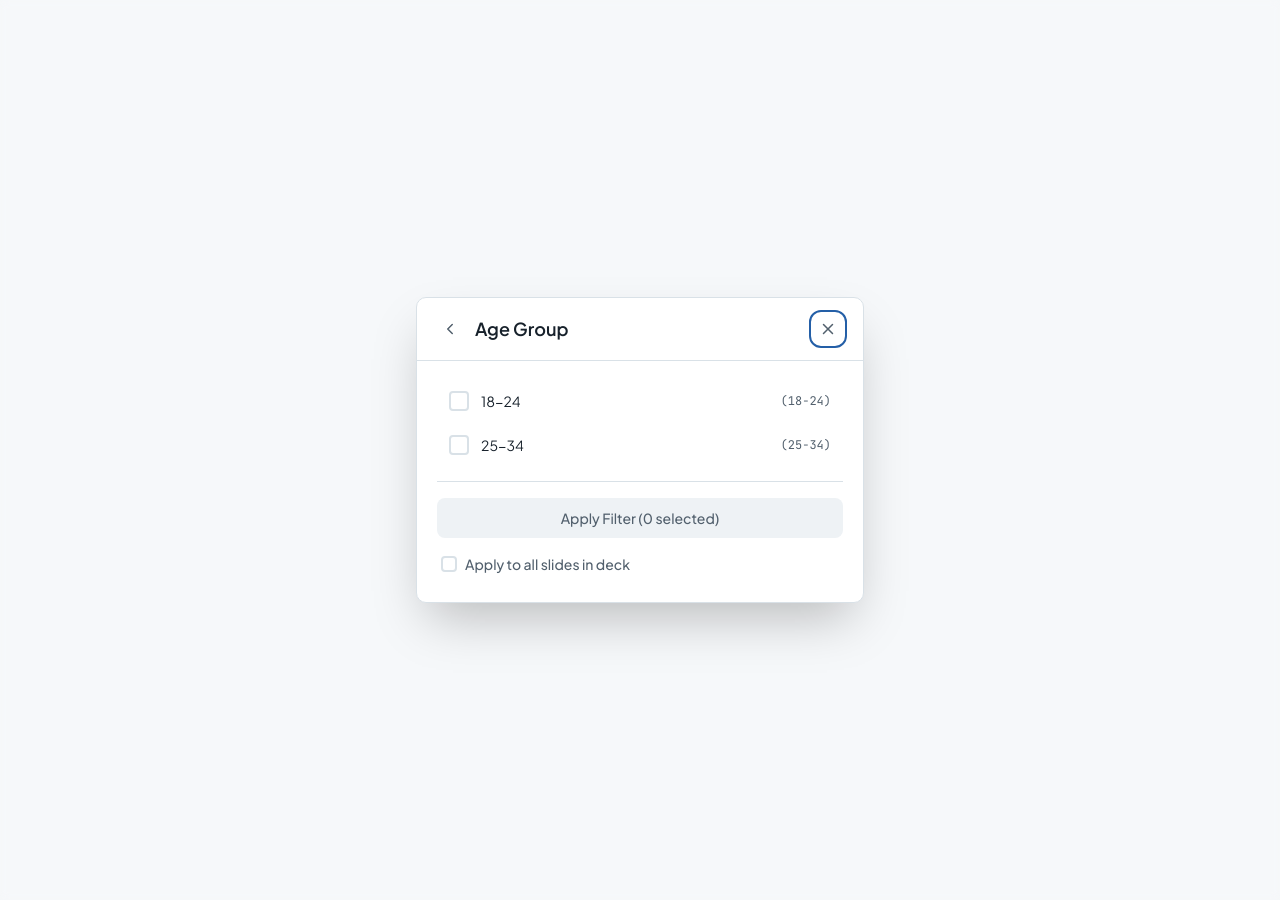
Scenario: FilterModal › clears stale values while loading new variable options
Earlier steps of the test are not shown.
Later steps or results of the test are not shown.
Expected: the text "18-24" is shown, [481,391,521,411]
What coordinates should you click on to do the following:
click the button named "back to variable selection"
I would click on:
 (450, 329)
Its box is [437,316,463,342].
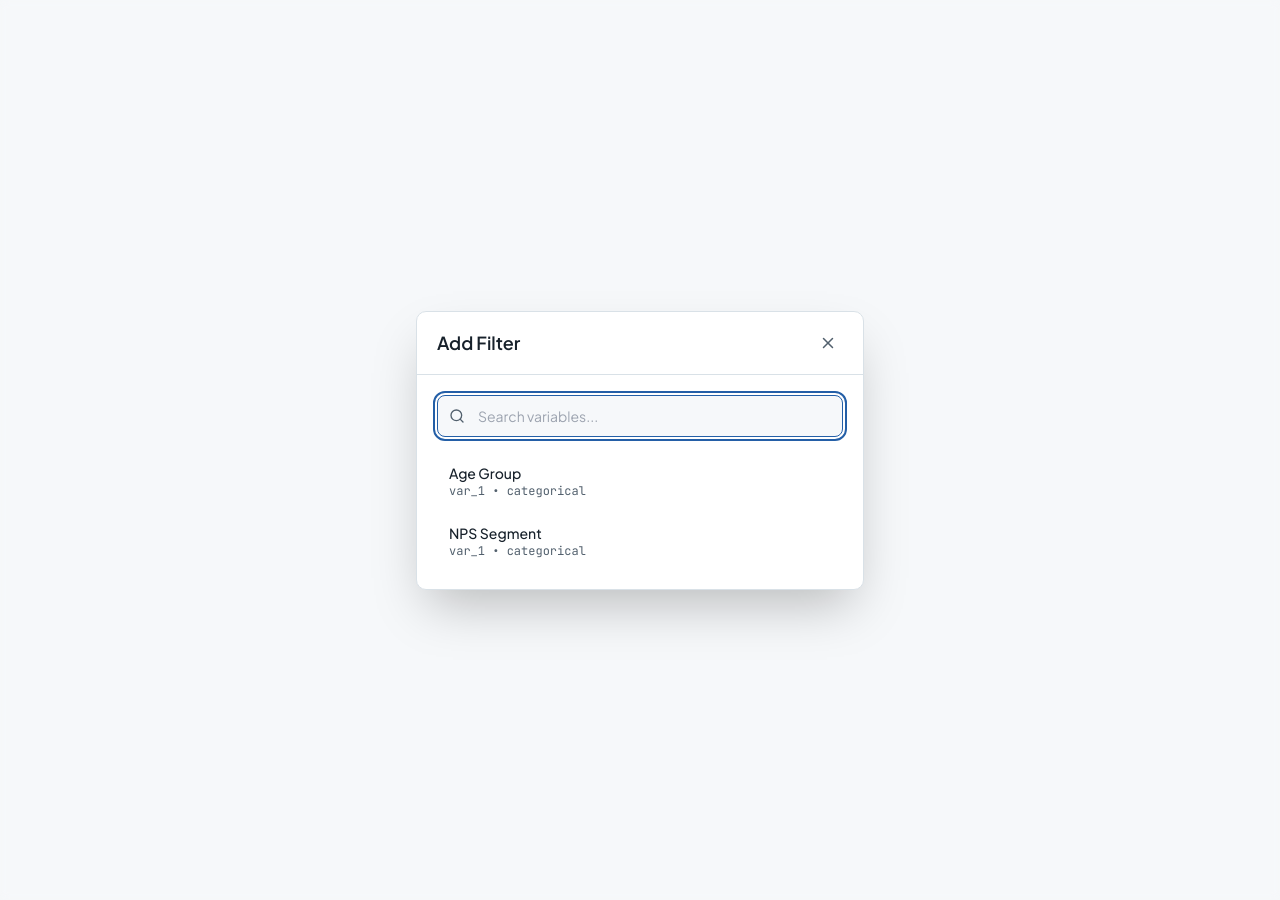
What coordinates should you click on to do the following:
click the button "NPS Segment var_1 • categorical"
I would click on:
 (495, 532)
Its box is [437,512,843,568].
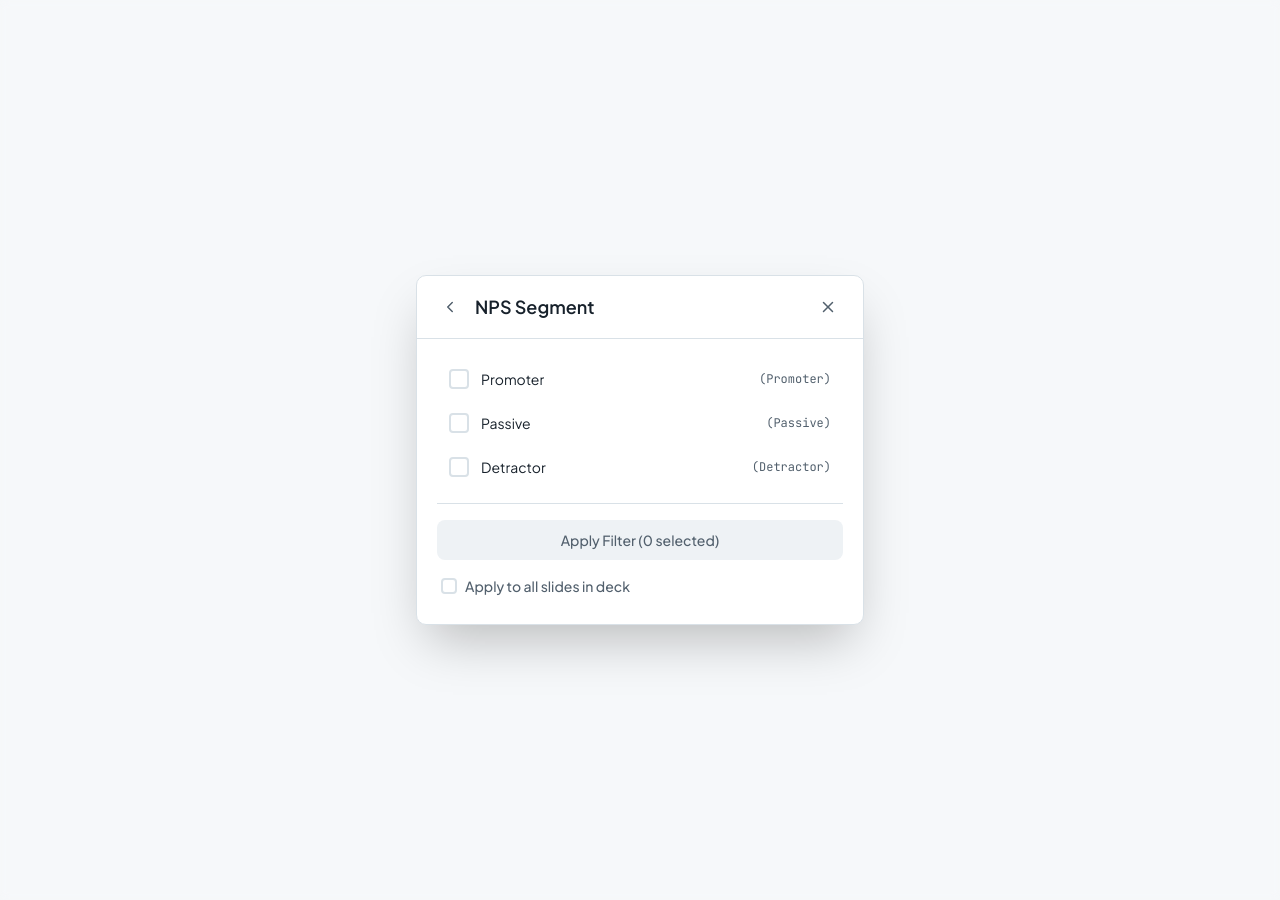
Expected: the button "18-24" is not shown
Expected: the text "Promoter" is shown, [481,369,544,389]
